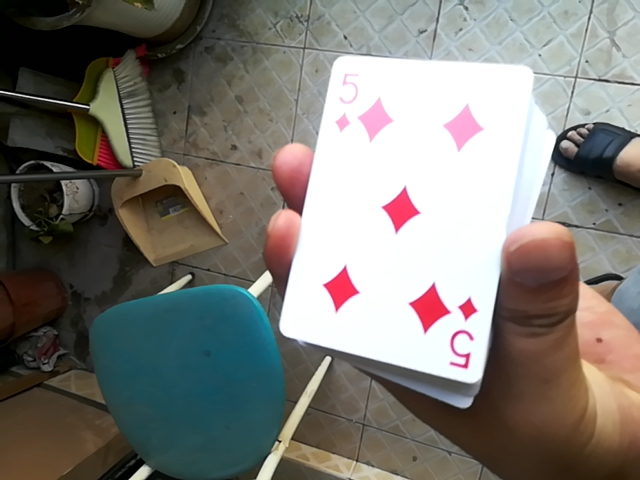fk 5: (268, 56, 545, 386)
